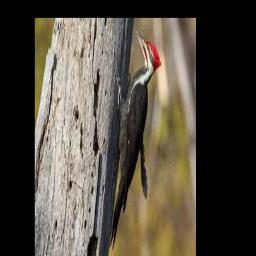Woodpecker: (109, 27, 161, 248)
